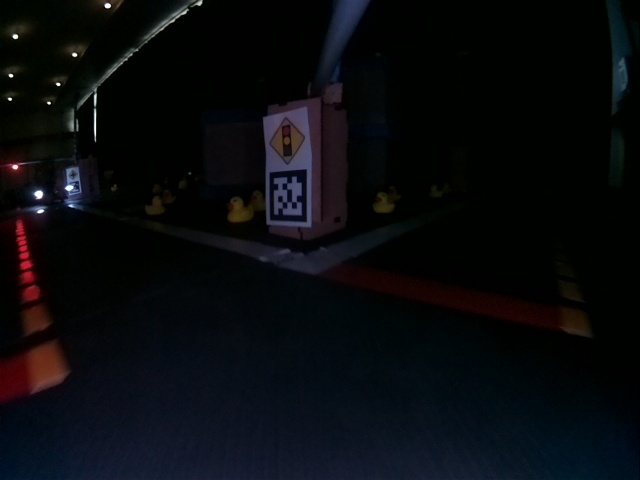Duckie: (227, 197, 252, 221), (373, 193, 392, 213), (144, 197, 163, 215), (251, 191, 265, 213), (161, 191, 174, 203)
Duckiebot: (22, 181, 70, 204)
QR code: (271, 170, 310, 223), (68, 181, 80, 193)
Signal sign: (267, 116, 307, 165)
